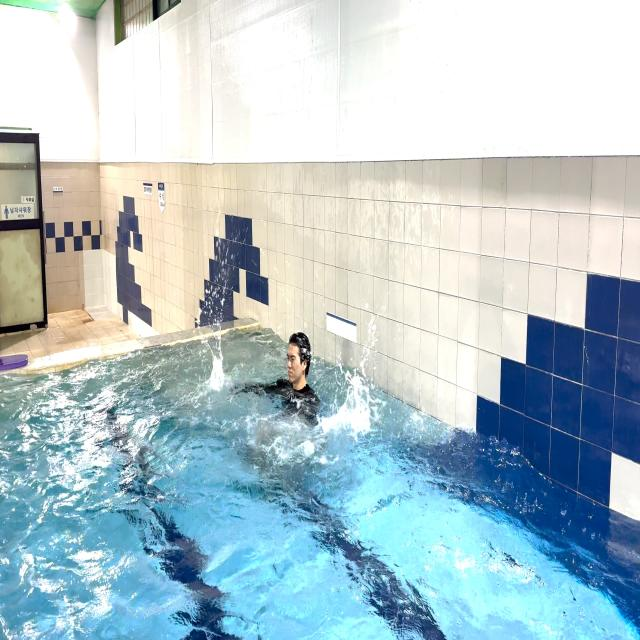Swimming: (215, 319, 384, 454)
